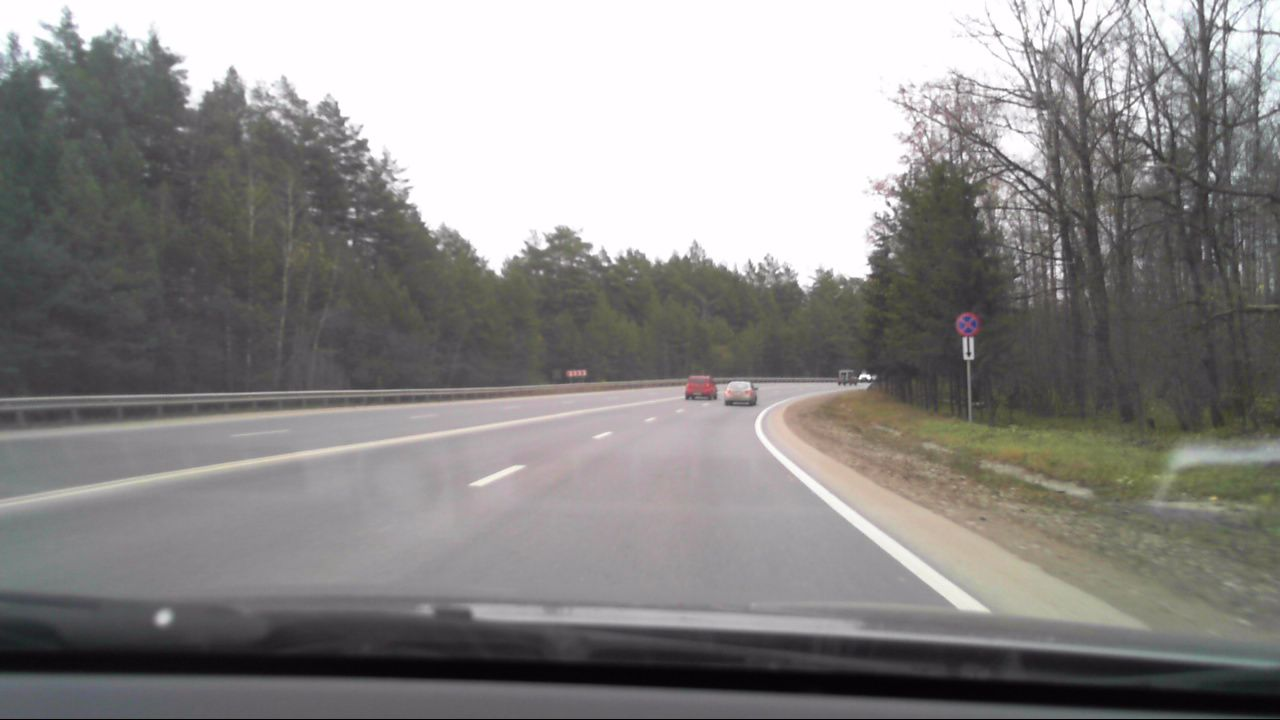No Parking: (954, 311, 981, 339)
